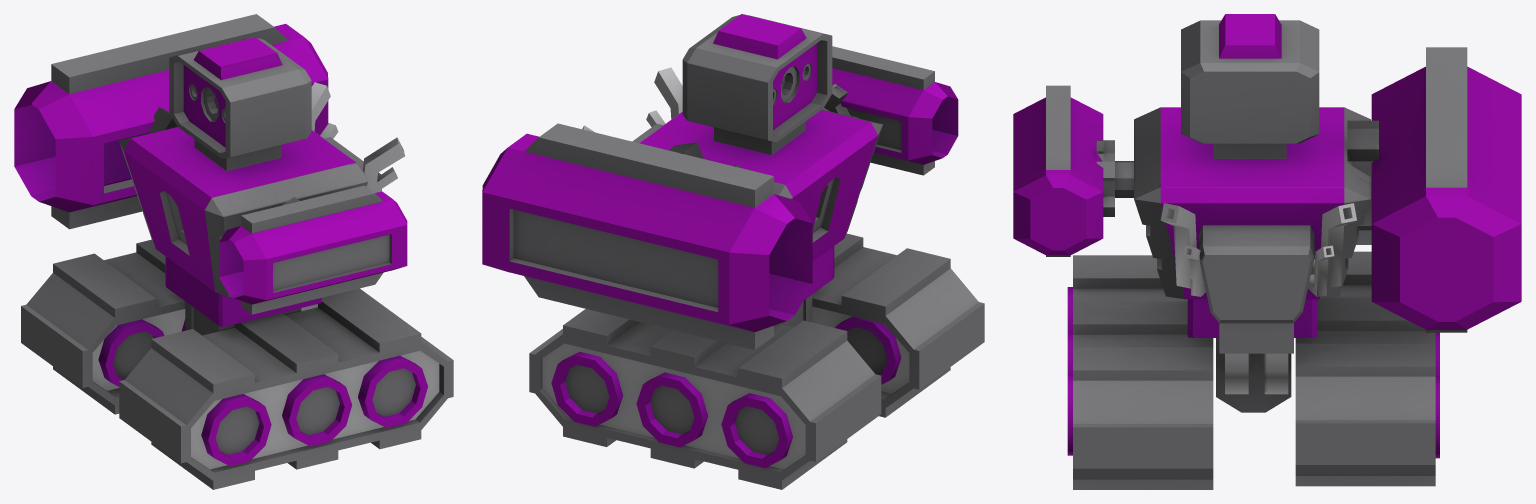
File: Enemy2_Attack11.obj
3 views of the same model, side by side, from view 1: azimuth 30°, elevation 25°; view 2: azimuth 150°, elevation 25°; view 3: azimuth 270°, elevation 25° (orthographic). The views are drawn at different scales.
Parts seen in each view (by area): view 1: Object006, Object007, Object011, Object010; view 2: Object006, Object011, Object007, Object010; view 3: Object006, Object007, Object011, Object010, Object009, Object008.
Part boxes in pixels (left/top/right/bottom): Object006: left=21, top=185, right=453, bottom=489; Object007: left=119, top=37, right=368, bottom=335; Object011: left=14, top=14, right=328, bottom=229; Object010: left=301, top=82, right=404, bottom=311; Object006: left=529, top=46, right=984, bottom=489; Object011: left=482, top=123, right=812, bottom=349; Object007: left=639, top=14, right=882, bottom=327; Object010: left=582, top=67, right=682, bottom=142; Object006: left=1013, top=85, right=1439, bottom=489; Object007: left=1134, top=14, right=1370, bottom=412; Object011: left=1371, top=47, right=1521, bottom=332; Object010: left=1160, top=203, right=1356, bottom=394; Object009: left=1347, top=120, right=1378, bottom=244; Object008: left=1096, top=140, right=1133, bottom=216.
Size of the model in its own units: 93.04 by 109 by 124.
